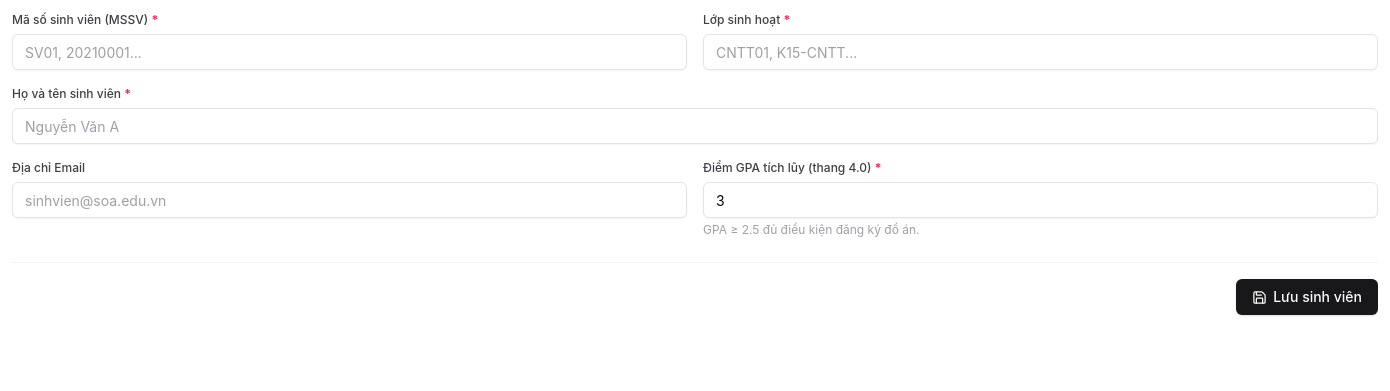
Test: StudentForm Component (Dumb Component Unit Tests) › validates empty inputs and shows error message
The width and height of the screenshot is (1390, 391).
Click the button "Lưu sinh viên" at (1307, 297), box left=1236, top=279, right=1378, bottom=315
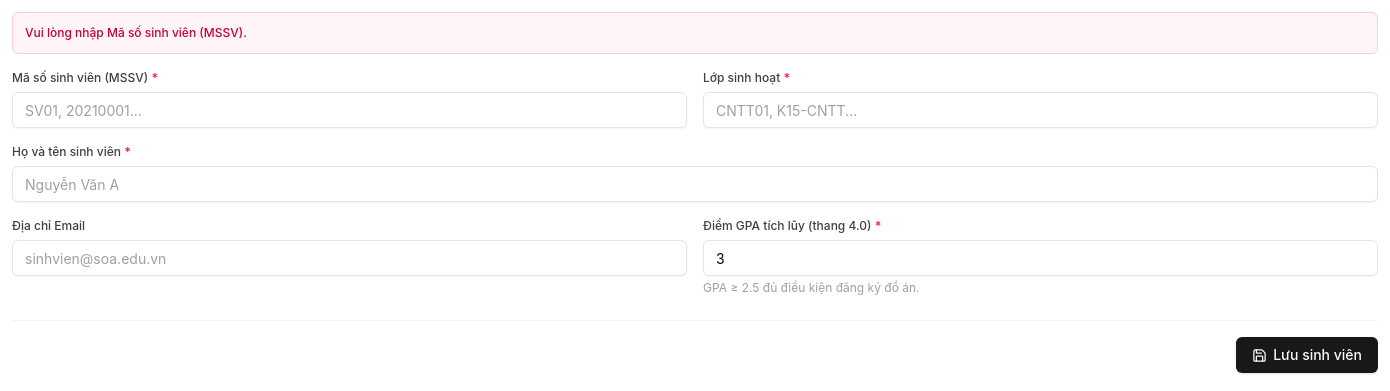
expect the text "Vui lòng nhập Mã số sinh viên (MSSV)." is shown: met, box left=12, top=12, right=1378, bottom=54
